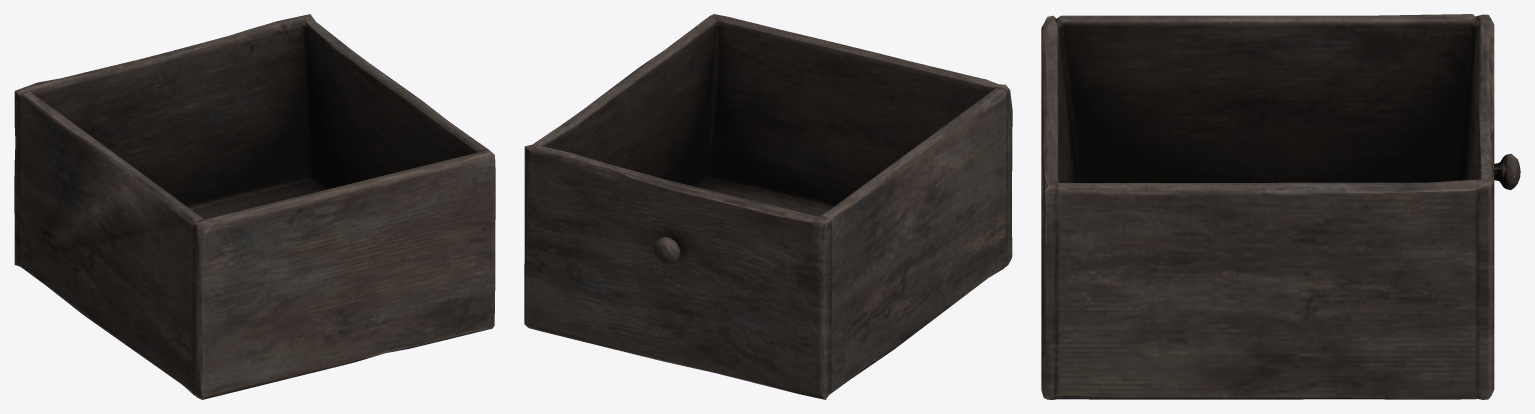
The model's file is SM_Cabinet_Drawer1.fbx.
The picture shows the model from 3 angles, left to right: view 1: azimuth 30°, elevation 25°; view 2: azimuth 150°, elevation 25°; view 3: azimuth 270°, elevation 25°; orthographic projection. The views are drawn at different scales.
Visible parts, largest first — view 1: SM_Cabinet_Drawer1_LOD0; view 2: SM_Cabinet_Drawer1_LOD0; view 3: SM_Cabinet_Drawer1_LOD0.
Boxes of the visible parts, x1,y1,x2,y2 form: SM_Cabinet_Drawer1_LOD0: [14, 14, 495, 399]; SM_Cabinet_Drawer1_LOD0: [524, 14, 1012, 399]; SM_Cabinet_Drawer1_LOD0: [1041, 14, 1520, 399].
Size of the model in its own units: 30.3 by 35.03 by 17.6.
